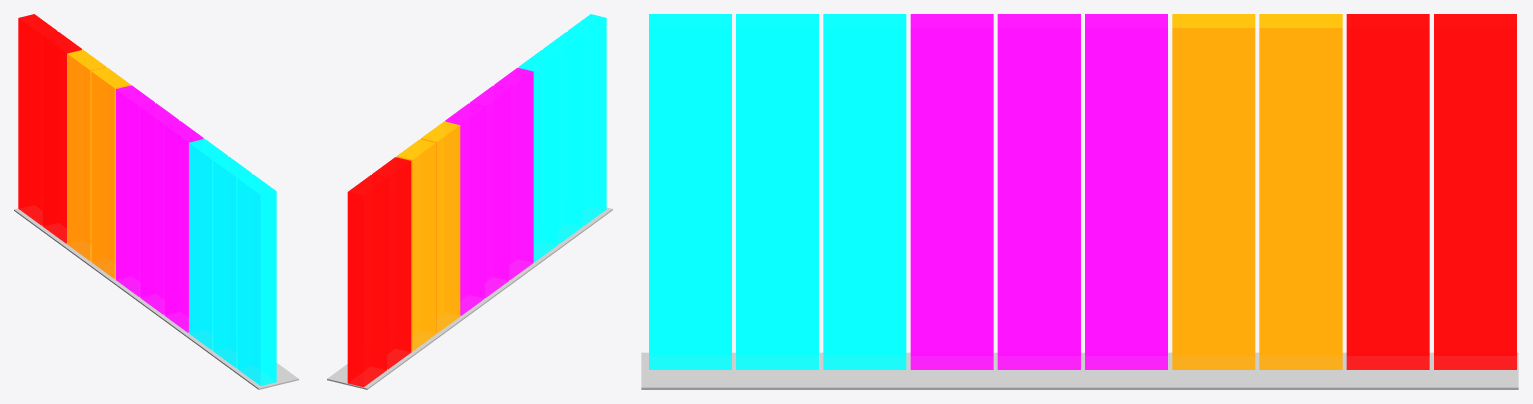
The model's file is BarraMusica.glb.
3 views of the same model, side by side, from view 1: azimuth 30°, elevation 25°; view 2: azimuth 150°, elevation 25°; view 3: azimuth 270°, elevation 25° (orthographic). The views are drawn at different scales.
Parts seen in each view (by area): view 1: Barras, Plataforma; view 2: Barras, Plataforma; view 3: Barras, Plataforma.
Part boxes in pixels (<box>): Barras: <box>18,14,276,385</box>; Plataforma: <box>14,208,298,389</box>; Barras: <box>347,14,606,387</box>; Plataforma: <box>327,207,612,389</box>; Barras: <box>649,14,1516,369</box>; Plataforma: <box>641,352,1518,389</box>.
Size of the model in its own units: 2 by 9.15 by 21.11.
